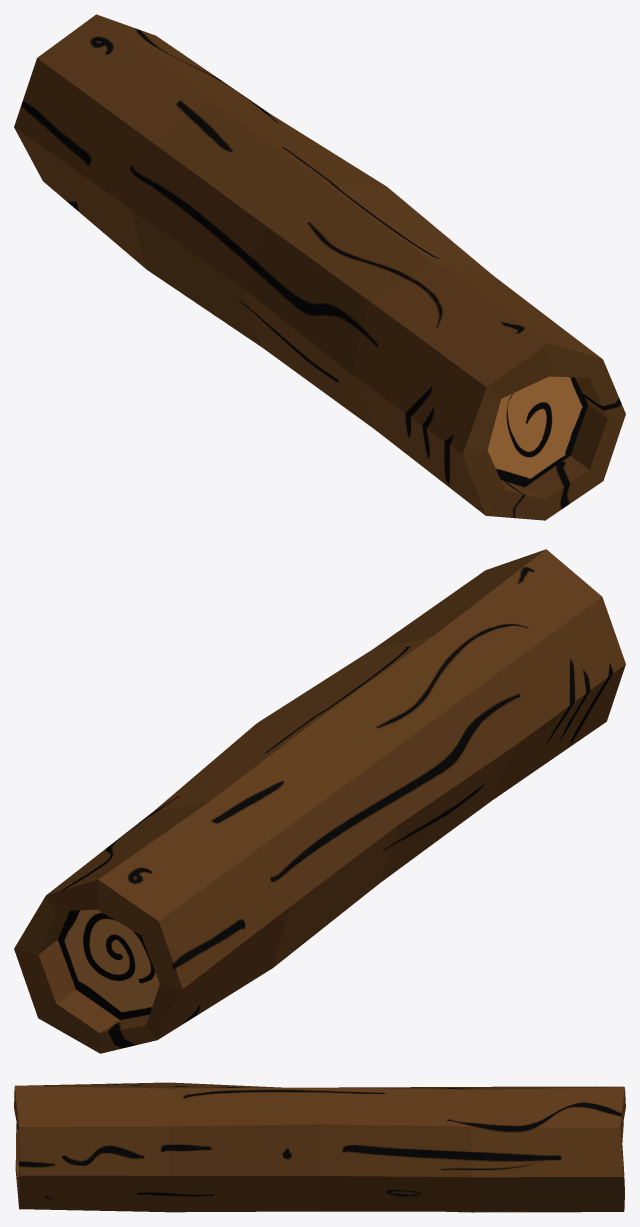
The model's file is SM_Log_Short.fbx.
The picture shows the model from 3 angles, top to bottom: view 1: azimuth 30°, elevation 25°; view 2: azimuth 150°, elevation 25°; view 3: azimuth 270°, elevation 25°; orthographic projection. The views are drawn at different scales.
Visible parts, largest first — view 1: SM_Log_Short; view 2: SM_Log_Short; view 3: SM_Log_Short.
Boxes of the visible parts, left/top/right/bottom form: SM_Log_Short: left=14, top=14, right=625, bottom=520; SM_Log_Short: left=14, top=549, right=625, bottom=1053; SM_Log_Short: left=14, top=1082, right=625, bottom=1212.
Size of the model in its own units: 1.02 by 4.71 by 1.08.
